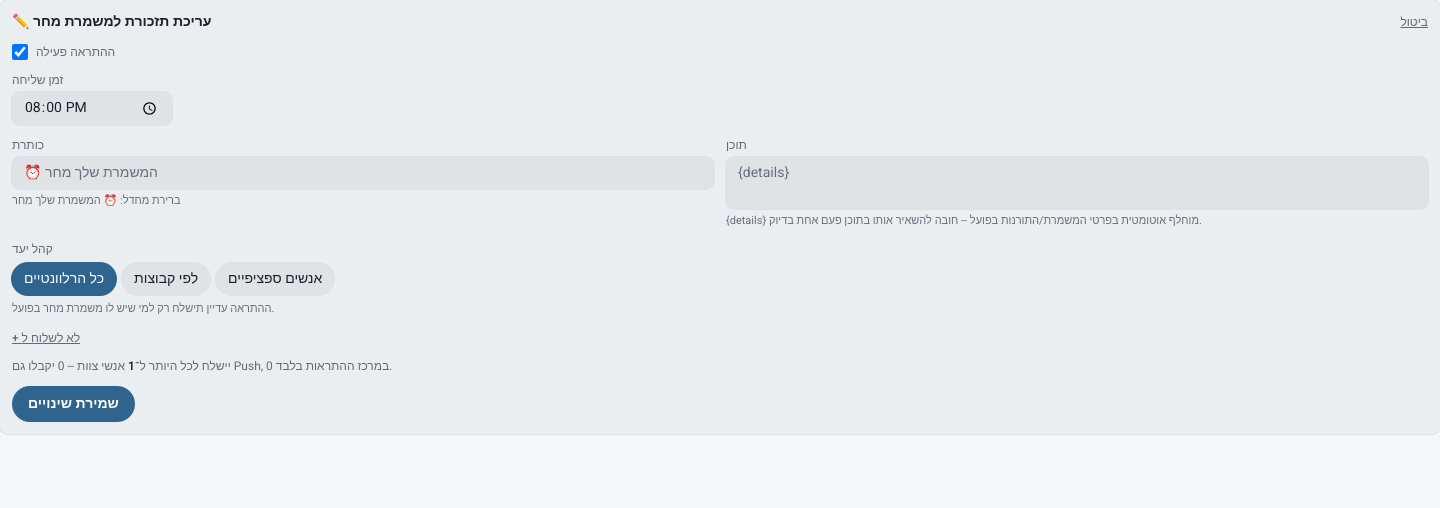
ManagerSystemRuleEditor -- fields + submission › dynamic-body rule: a body without {details} disables submit and shows the validation error
The width and height of the screenshot is (1440, 508).
Step 1. Type "תוכן בלי הפרטים" into the text box → [1077, 183], box [726,157,1428,209]
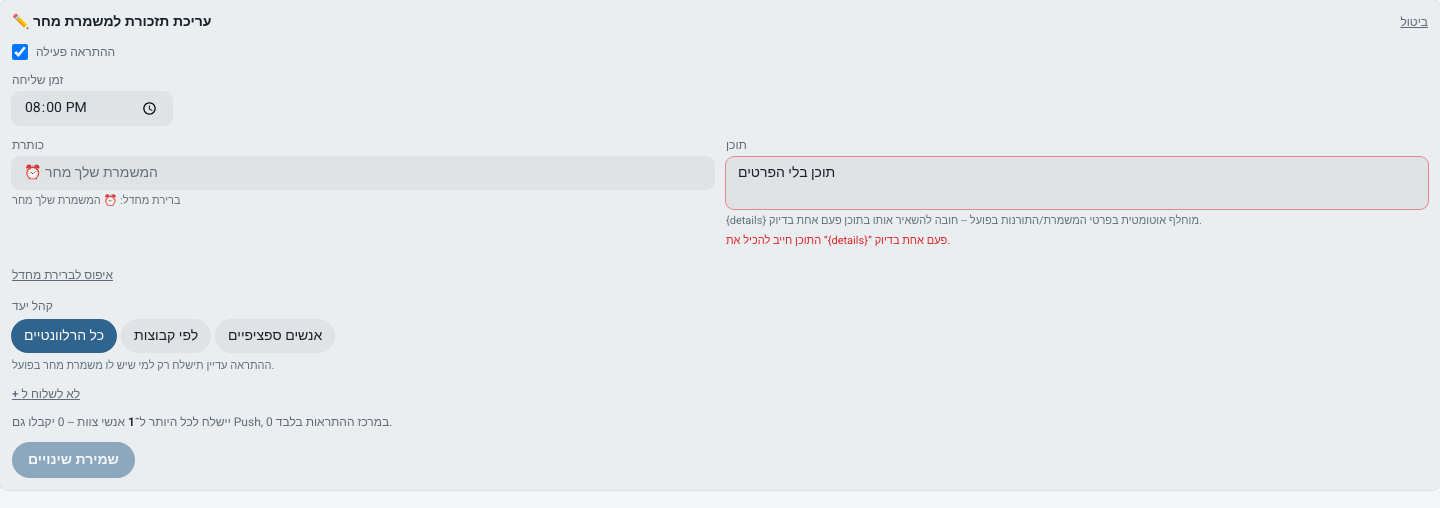
Expected: the text "התוכן חייב להכיל את “{details}” פעם אחת בדיוק." is shown, [726,232,950,249]
Expected: the button "שמירת שינויים" is disabled, [12,442,135,478]
